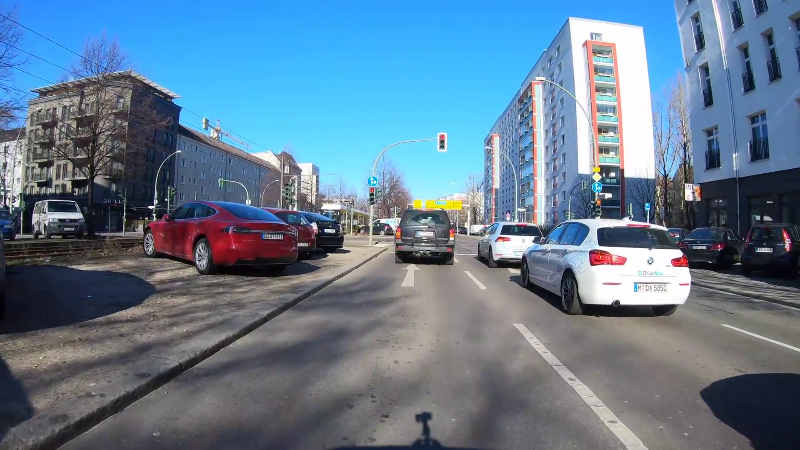Plate: (633, 281, 667, 293), (261, 232, 284, 241), (415, 229, 435, 237), (754, 246, 775, 253), (690, 243, 707, 250), (323, 227, 337, 234), (297, 240, 310, 246), (63, 226, 76, 232), (513, 250, 524, 256)
